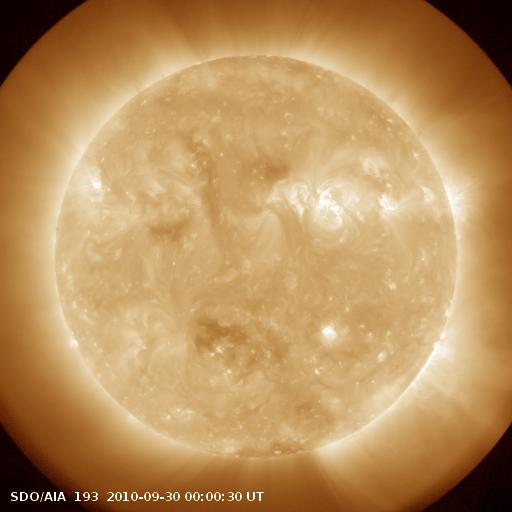coronal_hole: (187, 310, 257, 363)
